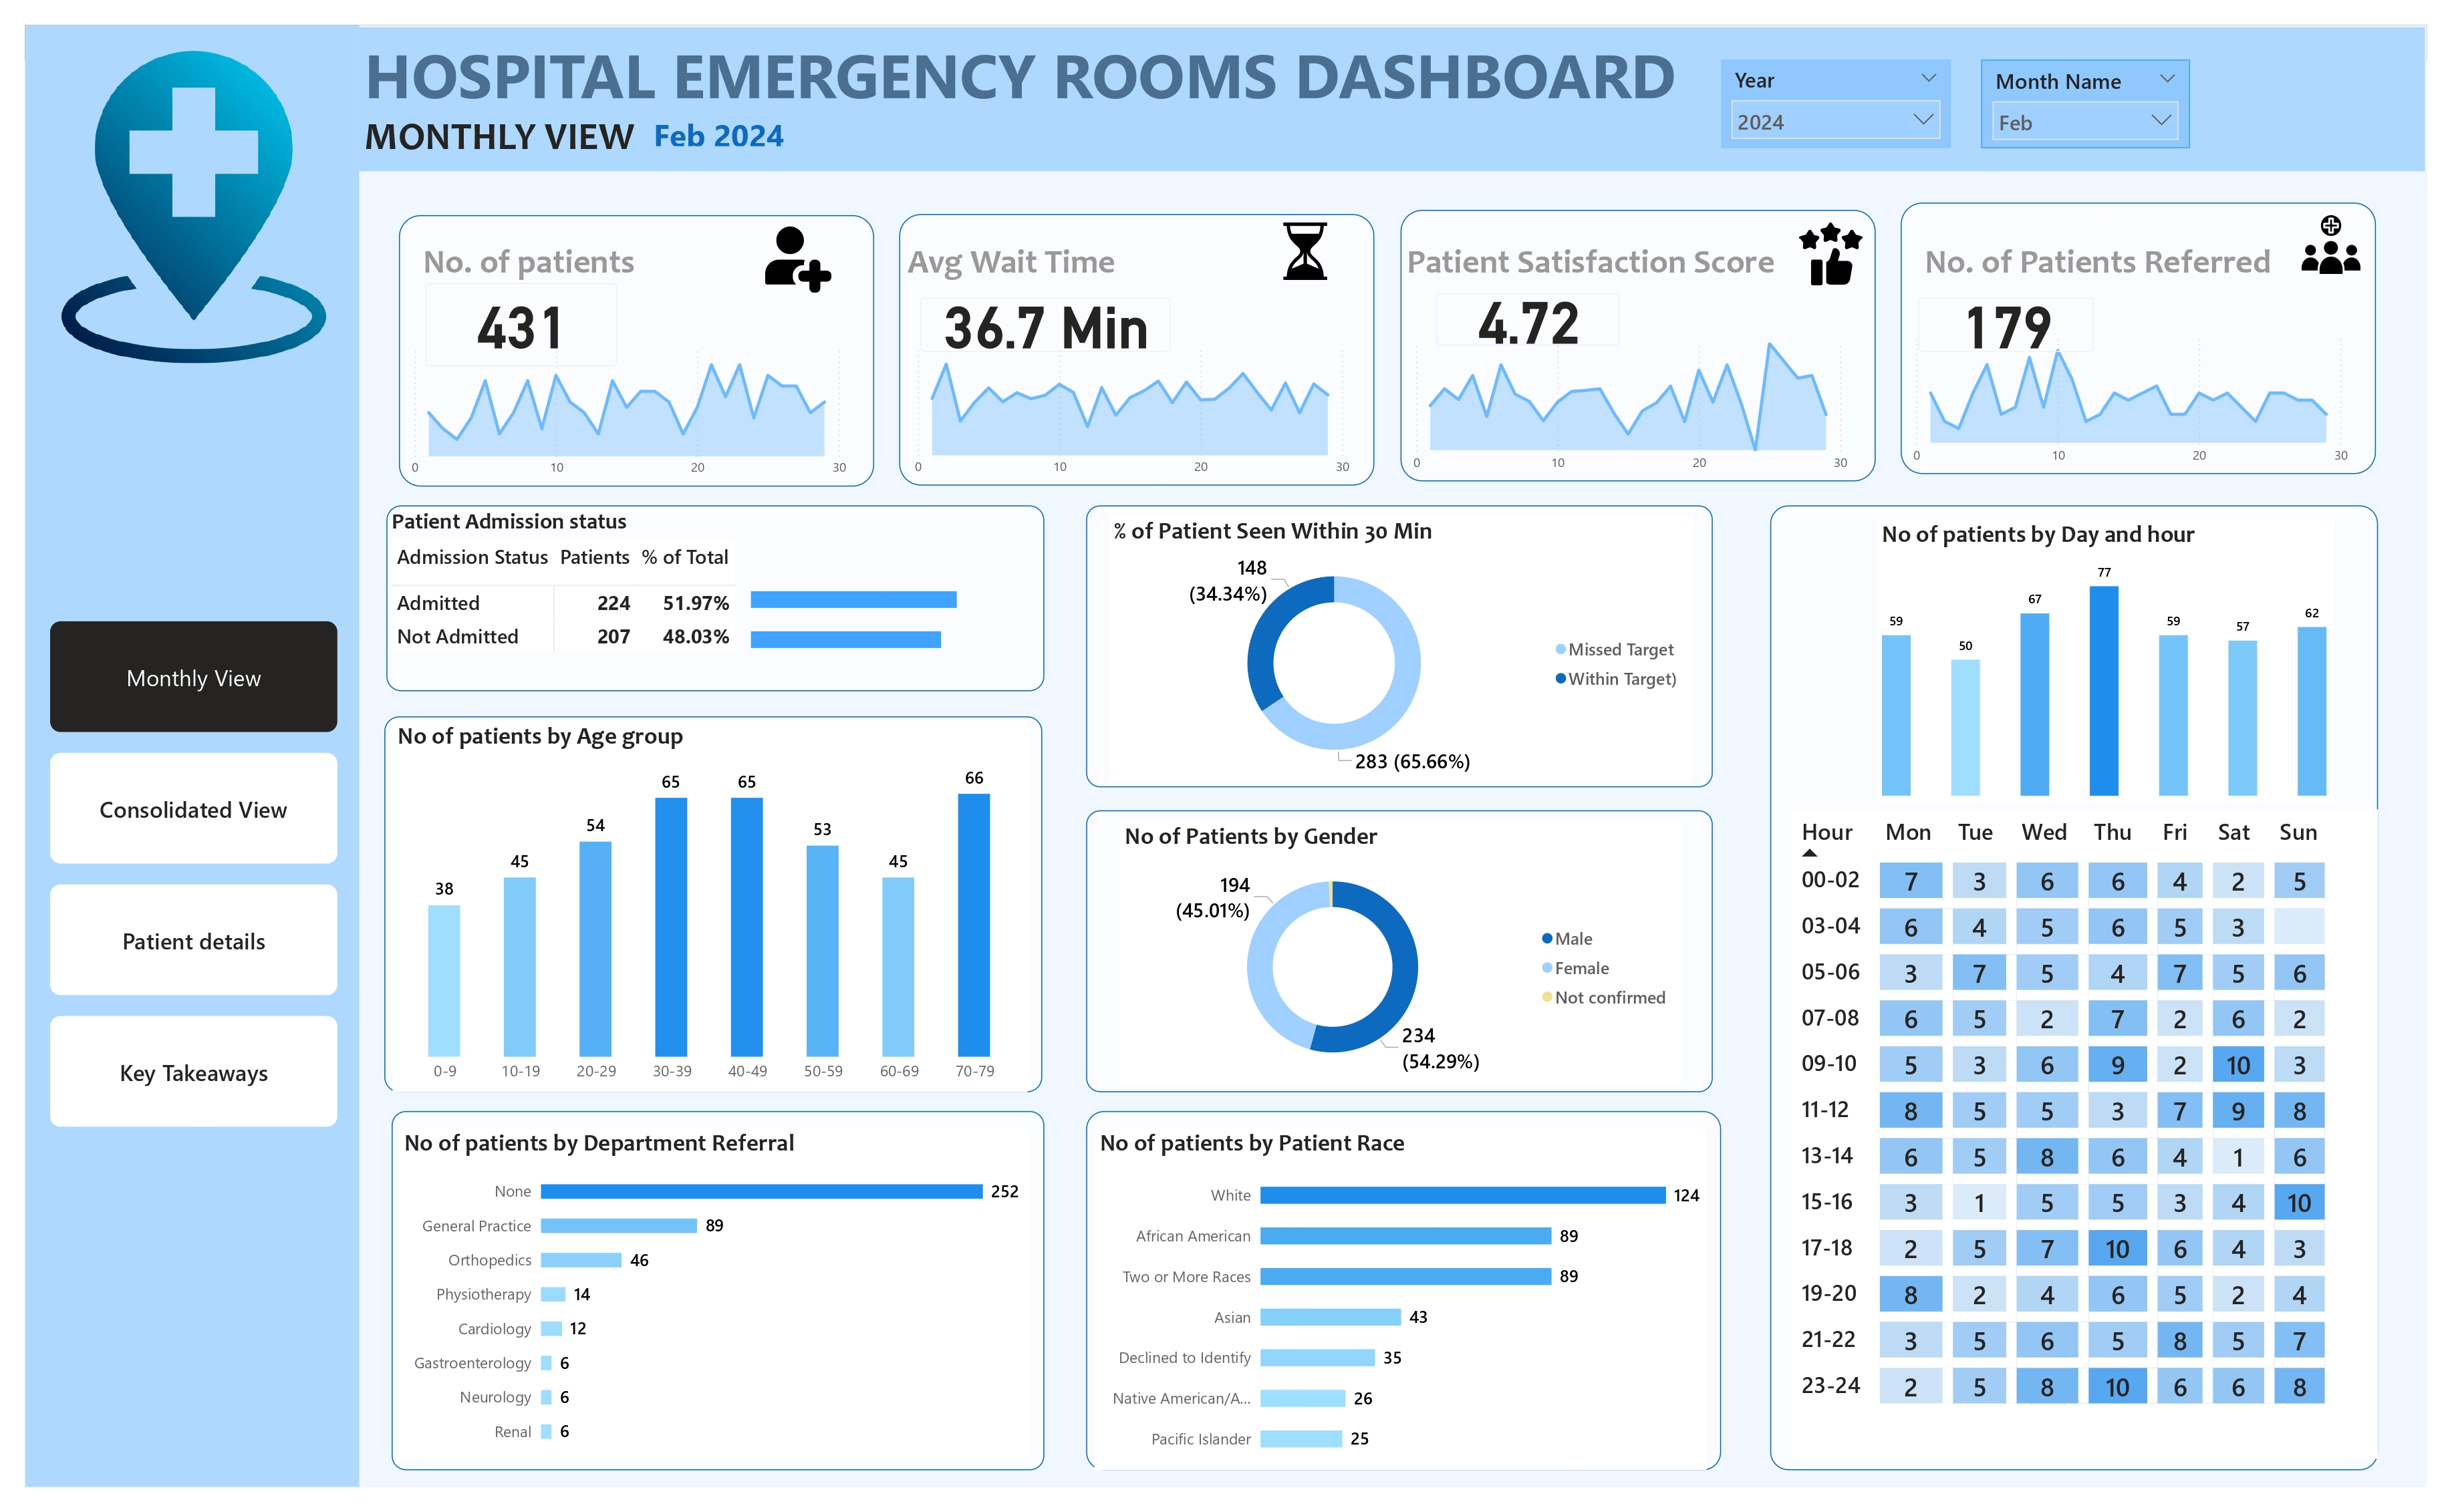

The page's visual inventory and layout, read from the dashboard file:
{"tool":"powerbi","page":{"name":"Monthly View","canvas":[2300,1400],"ordinal":0},"visuals":[{"type":"shape","box":[1671.1,460,582.2,924.4],"z":0},{"type":"shape","box":[0,0,320,1400],"z":1000},{"type":"textbox","box":[319.7,2.1,1289.2,137.9],"z":2000},{"type":"shape","box":[319.7,2.1,1978.7,137.9],"z":3000},{"type":"textbox","box":[320,78,310,124],"z":4000},{"type":"slicer","fields":{"Values":["Data Table.Year"]},"box":[1624.4,33.3,220,84.4],"z":5000},{"type":"slicer","fields":{"Values":["Data Table.Month Name"]},"box":[1873.3,33.3,200,84.4],"z":6000},{"type":"shape","box":[358,182,455,260],"z":7000},{"type":"cardVisual","fields":{"Data":["Hospital ER_Data.No of patients"]},"box":[366,230,218,114],"z":8000},{"type":"textbox","box":[376,202,234,54],"z":9000},{"type":"areaChart","fields":{"Category":["Data Table.Date.Variation.Date Hierarchy.Day"],"Y":["Hospital ER_Data.No of patients"]},"box":[358,296,436,146],"z":10000},{"type":"cardVisual","fields":{"Rows":["Data Table.Month & year"]},"box":[585,66.7,161.7,103.3],"z":11000},{"type":"shape","box":[837.3,181.3,455,260],"z":12000},{"type":"areaChart","fields":{"Category":["Data Table.Date.Variation.Date Hierarchy.Day"],"Y":["Avg(Hospital ER_Data.Patient Waittime)"]},"box":[840,295.3,436,146],"z":13000},{"type":"shape","box":[1316.7,177.3,455,260],"z":14000},{"type":"areaChart","fields":{"Category":["Data Table.Date.Variation.Date Hierarchy.Day"],"Y":["Hospital ER_Data.Satisfaction Score"]},"box":[1317.3,291.3,436,146],"z":15000},{"type":"shape","box":[1796,170,455,260],"z":16000},{"type":"areaChart","fields":{"Category":["Data Table.Date.Variation.Date Hierarchy.Day"],"Y":["Hospital ER_Data.No. of Patients Referred"]},"box":[1796,284,436,146],"z":17000},{"type":"textbox","box":[840,202,250,54],"z":18000},{"type":"cardVisual","fields":{"Data":["Hospital ER_Data.Avg Wait Time"]},"box":[840,244,274,86],"z":19000},{"type":"textbox","box":[1318,202,392,54],"z":20000},{"type":"textbox","box":[1814,202,366,54],"z":21000},{"type":"cardVisual","fields":{"Data":["Hospital ER_Data.Satisfaction Score"]},"box":[1334,240,210,84],"z":22000},{"type":"shape","box":[346,460,630,178],"z":23000},{"type":"cardVisual","fields":{"Data":["Hospital ER_Data.No. of Patients Referred"]},"box":[1796,244,202,86],"z":24000},{"type":"pivotTable","title":"Patient Admission status","fields":{"Rows":["Hospital ER_Data.Admission Status"],"Values":["Hospital ER_Data.No of patients1","Hospital ER_Data.No of patients"]},"box":[346,462,632,178],"z":25000},{"type":"shape","box":[351.1,1040,624.4,344.4],"z":26000},{"type":"barChart","fields":{"Category":["Hospital ER_Data.Admission Status"],"Y":["Hospital ER_Data.No of patients"]},"box":[690,510,274,114],"z":27000},{"type":"shape","box":[344,662,630,360],"z":28000},{"type":"columnChart","fields":{"Category":["Hospital ER_Data.Age group"],"Y":["Hospital ER_Data.No of patients"]},"box":[352,666,608,356],"z":29000},{"type":"shape","box":[1016,752,600,270],"z":30000},{"type":"clusteredBarChart","fields":{"Category":["Hospital ER_Data.Department Referral"],"Y":["Hospital ER_Data.No of patients"]},"box":[357.8,1055.6,602.2,317.8],"z":31000},{"type":"pivotTable","fields":{"Rows":["Hospital ER_Data.Waittime Interval"],"Columns":["Data Table.Day Name"],"Values":["Hospital ER_Data.No of patients"]},"box":[1691.1,751.1,562.2,622.2],"z":32000},{"type":"shape","box":[1016,460,600,270],"z":33000},{"type":"donutChart","title":"% of Patient Seen Within 30 Min","fields":{"Category":["Hospital ER_Data.Waittime Status"],"Y":["Hospital ER_Data.No of patients"]},"box":[1038,470,558,254],"z":34000},{"type":"donutChart","title":"No of Patients by Gender","fields":{"Y":["Hospital ER_Data.No of patients"],"Category":["Hospital ER_Data.Patient Gender"]},"box":[1048,762,538,252],"z":35000},{"type":"shape","box":[1015.6,1040,608.9,344.4],"z":36000},{"type":"clusteredBarChart","fields":{"Y":["Hospital ER_Data.No of patients"],"Category":["Hospital ER_Data.Patient Race"]},"box":[1024,1056,586,328],"z":37000},{"type":"columnChart","title":"No of patients by Day and hour","fields":{"Category":["Data Table.Day Name"],"Y":["Hospital ER_Data.No of patients"]},"box":[1773.3,473.3,437.8,271.1],"z":38000},{"type":"image","box":[691.1,193.3,97.8,62.2],"z":39000},{"type":"image","box":[1171.1,188.9,108.9,55.6],"z":40000},{"type":"image","box":[1691.1,188.9,75.6,60],"z":41000},{"type":"image","box":[2180,171.1,55.6,77.8],"z":42000},{"type":"image","box":[11.1,24.4,300,300],"z":43000},{"type":"pageNavigator","box":[24.4,571.1,275.6,484.4],"z":44000}]}

Visuals, with their boxes on the page's 2300x1400 design canvas (x1, y1, x2, y2). These are canvas units, not pixel positions in the 2452x1512 screenshot, which may show the page scaled, cropped or inside an application window:
shape: [left=1671, top=460, right=2253, bottom=1384]
shape: [left=0, top=0, right=320, bottom=1400]
textbox: [left=320, top=2, right=1609, bottom=140]
shape: [left=320, top=2, right=2298, bottom=140]
textbox: [left=320, top=78, right=630, bottom=202]
slicer - Data Table.Year: [left=1624, top=33, right=1844, bottom=118]
slicer - Data Table.Month Name: [left=1873, top=33, right=2073, bottom=118]
shape: [left=358, top=182, right=813, bottom=442]
cardVisual - Hospital ER_Data.No of patients: [left=366, top=230, right=584, bottom=344]
textbox: [left=376, top=202, right=610, bottom=256]
areaChart - Data Table.Date.Variation.Date Hierarchy.Day x Hospital ER_Data.No of patients: [left=358, top=296, right=794, bottom=442]
cardVisual - Data Table.Month & year: [left=585, top=67, right=747, bottom=170]
shape: [left=837, top=181, right=1292, bottom=441]
areaChart - Data Table.Date.Variation.Date Hierarchy.Day x Avg(Hospital ER_Data.Patient Waittime): [left=840, top=295, right=1276, bottom=441]
shape: [left=1317, top=177, right=1772, bottom=437]
areaChart - Data Table.Date.Variation.Date Hierarchy.Day x Hospital ER_Data.Satisfaction Score: [left=1317, top=291, right=1753, bottom=437]
shape: [left=1796, top=170, right=2251, bottom=430]
areaChart - Data Table.Date.Variation.Date Hierarchy.Day x Hospital ER_Data.No. of Patients Referred: [left=1796, top=284, right=2232, bottom=430]
textbox: [left=840, top=202, right=1090, bottom=256]
cardVisual - Hospital ER_Data.Avg Wait Time: [left=840, top=244, right=1114, bottom=330]
textbox: [left=1318, top=202, right=1710, bottom=256]
textbox: [left=1814, top=202, right=2180, bottom=256]
cardVisual - Hospital ER_Data.Satisfaction Score: [left=1334, top=240, right=1544, bottom=324]
shape: [left=346, top=460, right=976, bottom=638]
cardVisual - Hospital ER_Data.No. of Patients Referred: [left=1796, top=244, right=1998, bottom=330]
"Patient Admission status" pivotTable: [left=346, top=462, right=978, bottom=640]
shape: [left=351, top=1040, right=976, bottom=1384]
barChart - Hospital ER_Data.Admission Status x Hospital ER_Data.No of patients: [left=690, top=510, right=964, bottom=624]
shape: [left=344, top=662, right=974, bottom=1022]
columnChart - Hospital ER_Data.Age group x Hospital ER_Data.No of patients: [left=352, top=666, right=960, bottom=1022]
shape: [left=1016, top=752, right=1616, bottom=1022]
clusteredBarChart - Hospital ER_Data.Department Referral x Hospital ER_Data.No of patients: [left=358, top=1056, right=960, bottom=1373]
pivotTable - Hospital ER_Data.Waittime Interval x Data Table.Day Name: [left=1691, top=751, right=2253, bottom=1373]
shape: [left=1016, top=460, right=1616, bottom=730]
"% of Patient Seen Within 30 Min" donutChart: [left=1038, top=470, right=1596, bottom=724]
"No of Patients by Gender" donutChart: [left=1048, top=762, right=1586, bottom=1014]
shape: [left=1016, top=1040, right=1624, bottom=1384]
clusteredBarChart - Hospital ER_Data.No of patients x Hospital ER_Data.Patient Race: [left=1024, top=1056, right=1610, bottom=1384]
"No of patients by Day and hour" columnChart: [left=1773, top=473, right=2211, bottom=744]
image: [left=691, top=193, right=789, bottom=256]
image: [left=1171, top=189, right=1280, bottom=244]
image: [left=1691, top=189, right=1767, bottom=249]
image: [left=2180, top=171, right=2236, bottom=249]
image: [left=11, top=24, right=311, bottom=324]
pageNavigator: [left=24, top=571, right=300, bottom=1056]
